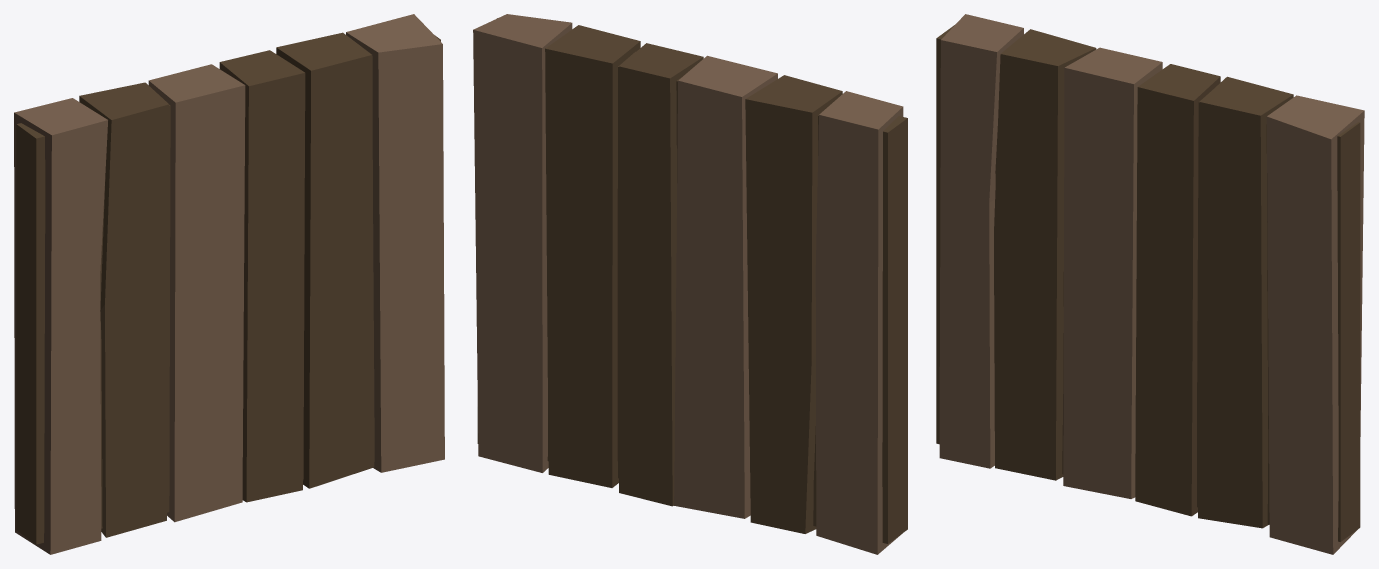
The model's file is enchantedforest_wall_wood_1.fbx.
3 views of the same model, side by side, from view 1: azimuth 30°, elevation 25°; view 2: azimuth 150°, elevation 25°; view 3: azimuth 330°, elevation 25° (orthographic).
Parts seen in each view (by area): view 1: Cube.006; view 2: Cube.006; view 3: Cube.006.
Boxes of the visible parts, <box> form: Cube.006: <box>14,14,444,554</box>; Cube.006: <box>473,14,907,554</box>; Cube.006: <box>936,14,1364,554</box>.
Size of the model in its own units: 3 by 3 by 0.4.
